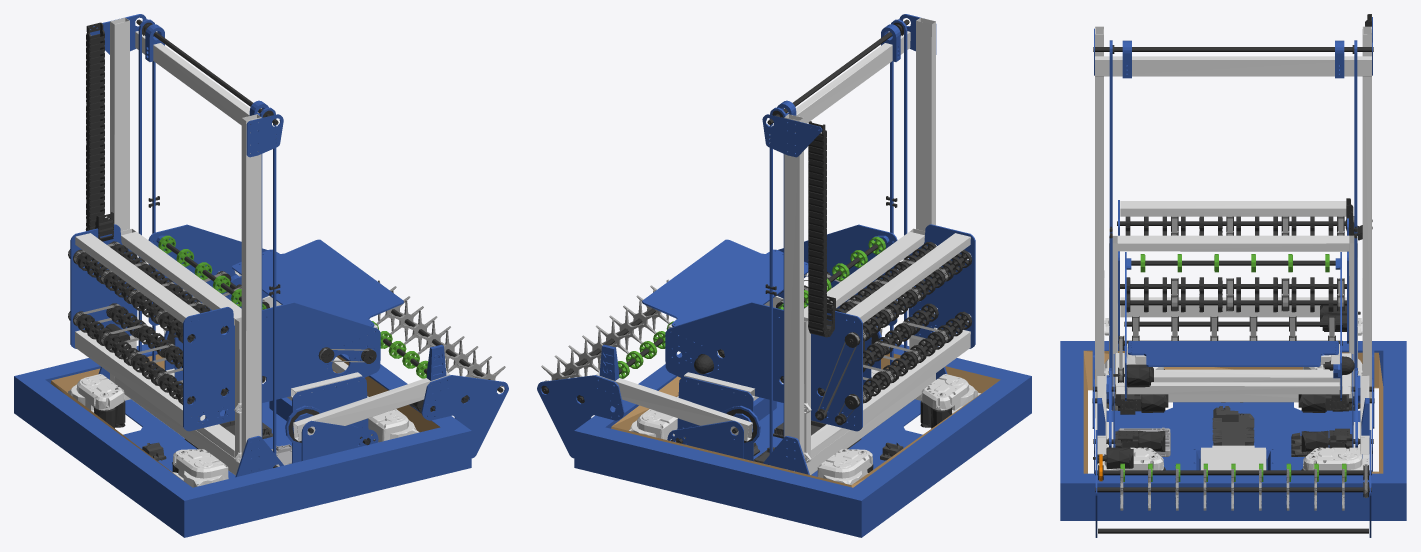
File: divebomb.glb
The picture shows the model from 3 angles, left to right: view 1: azimuth 30°, elevation 25°; view 2: azimuth 150°, elevation 25°; view 3: azimuth 270°, elevation 25°; orthographic projection.
Visible parts, largest first — view 1: base|3e61b2, bumper|3e61b2, base|e9e9e9, carriage|e9e9e9, carriage|3e61b2, carriage|3a3a3a, base|3a3a3a, intake|3e61b2, base|e5e5e5, intake|e5e5e5, intake|a3a3a3, base|e9b87c (+5 smaller); view 2: base|3e61b2, bumper|3e61b2, base|e9e9e9, carriage|e9e9e9, carriage|3e61b2, carriage|3a3a3a, base|3a3a3a, intake|3e61b2, base|e5e5e5, intake|e5e5e5, base|e9b87c, intake|a3a3a3 (+5 smaller); view 3: bumper|3e61b2, base|3e61b2, base|e9e9e9, carriage|e9e9e9, base|3a3a3a, carriage|3a3a3a, intake|3a3a3a, base|e5e5e5, base|e9b87c, base|424242, base|4c4c4c, intake|a3a3a3 (+7 smaller).
Part boxes in pixels (x1=…): base|3e61b2: x1=90, y1=14, x2=403, y2=478; bumper|3e61b2: x1=14, y1=340, x2=471, y2=537; base|e9e9e9: x1=110, y1=17, x2=377, y2=475; carriage|e9e9e9: x1=75, y1=228, x2=241, y2=458; carriage|3e61b2: x1=70, y1=224, x2=234, y2=431; carriage|3a3a3a: x1=68, y1=241, x2=228, y2=404; base|3a3a3a: x1=85, y1=19, x2=376, y2=472; intake|3e61b2: x1=421, y1=344, x2=508, y2=458; base|e5e5e5: x1=68, y1=374, x2=419, y2=487; intake|e5e5e5: x1=163, y1=295, x2=450, y2=441; intake|a3a3a3: x1=376, y1=280, x2=505, y2=387; base|e9b87c: x1=50, y1=354, x2=440, y2=481; base|3e61b2: x1=642, y1=14, x2=947, y2=476; bumper|3e61b2: x1=574, y1=339, x2=1031, y2=537; base|e9e9e9: x1=668, y1=17, x2=935, y2=475; carriage|e9e9e9: x1=804, y1=228, x2=970, y2=458; carriage|3e61b2: x1=811, y1=224, x2=975, y2=431; carriage|3a3a3a: x1=815, y1=242, x2=972, y2=425; base|3a3a3a: x1=671, y1=19, x2=952, y2=472; intake|3e61b2: x1=537, y1=344, x2=624, y2=458; base|e5e5e5: x1=629, y1=374, x2=980, y2=484; intake|e5e5e5: x1=596, y1=296, x2=882, y2=441; base|e9b87c: x1=611, y1=353, x2=1000, y2=487; intake|a3a3a3: x1=541, y1=279, x2=669, y2=380; bumper|3e61b2: x1=1060, y1=341, x2=1406, y2=520; base|3e61b2: x1=1092, y1=17, x2=1374, y2=473; base|e9e9e9: x1=1095, y1=26, x2=1371, y2=459; carriage|e9e9e9: x1=1109, y1=201, x2=1357, y2=385; base|3a3a3a: x1=1092, y1=14, x2=1374, y2=470; carriage|3a3a3a: x1=1117, y1=216, x2=1360, y2=331; intake|3a3a3a: x1=1093, y1=447, x2=1371, y2=533; base|e5e5e5: x1=1095, y1=357, x2=1371, y2=470; base|e9b87c: x1=1083, y1=350, x2=1383, y2=473; base|424242: x1=1115, y1=384, x2=1352, y2=448; base|4c4c4c: x1=1212, y1=402, x2=1311, y2=456; intake|a3a3a3: x1=1120, y1=469, x2=1344, y2=510.
Bounding box in the file's own units: 1.13 × 1.21 × 0.9525.
